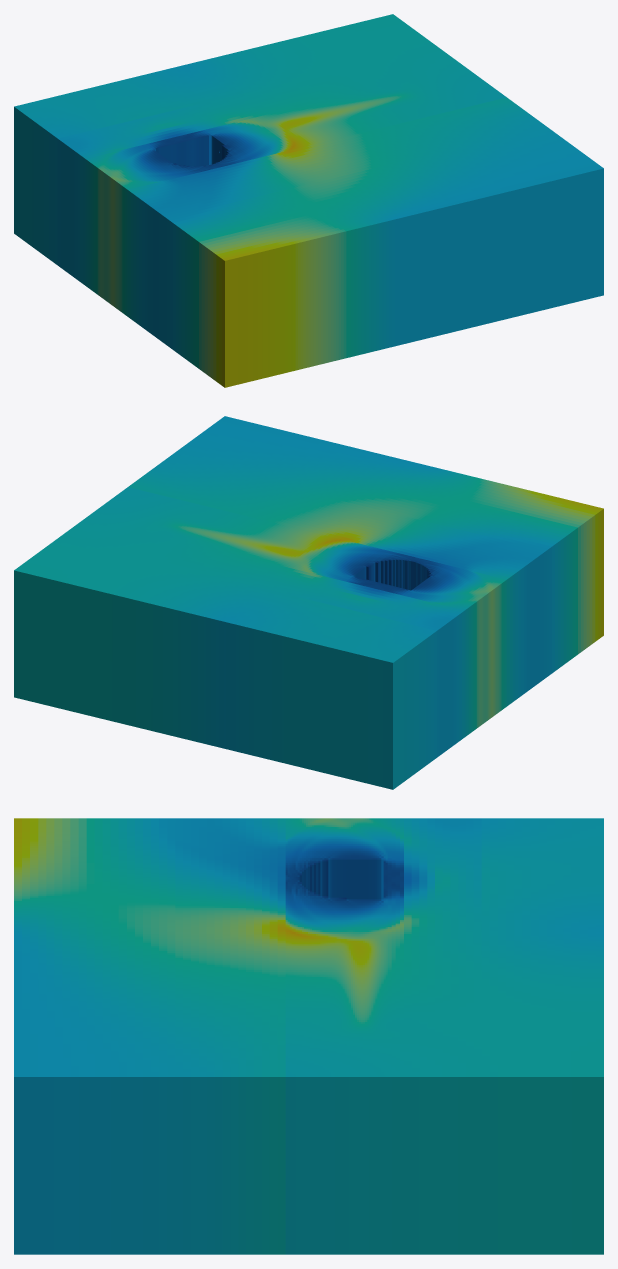
3 renders of one model, top to bottom at view 1: azimuth 30°, elevation 25°; view 2: azimuth 150°, elevation 25°; view 3: azimuth 270°, elevation 25°, orthographic. The views are drawn at different scales.
Parts seen in each view (by area): view 1: ModelExterior, RoadwayStressSurface; view 2: ModelExterior, RoadwayStressSurface; view 3: ModelExterior, RoadwayStressSurface.
Boxes of the visible parts, bbox=[...] form: ModelExterior: bbox=[14, 14, 603, 387]; RoadwayStressSurface: bbox=[153, 135, 228, 166]; ModelExterior: bbox=[14, 416, 603, 789]; RoadwayStressSurface: bbox=[353, 559, 430, 590]; ModelExterior: bbox=[14, 818, 603, 1254]; RoadwayStressSurface: bbox=[299, 859, 383, 899].
Size of the model in its own units: 30 by 9.6 by 28.9.
